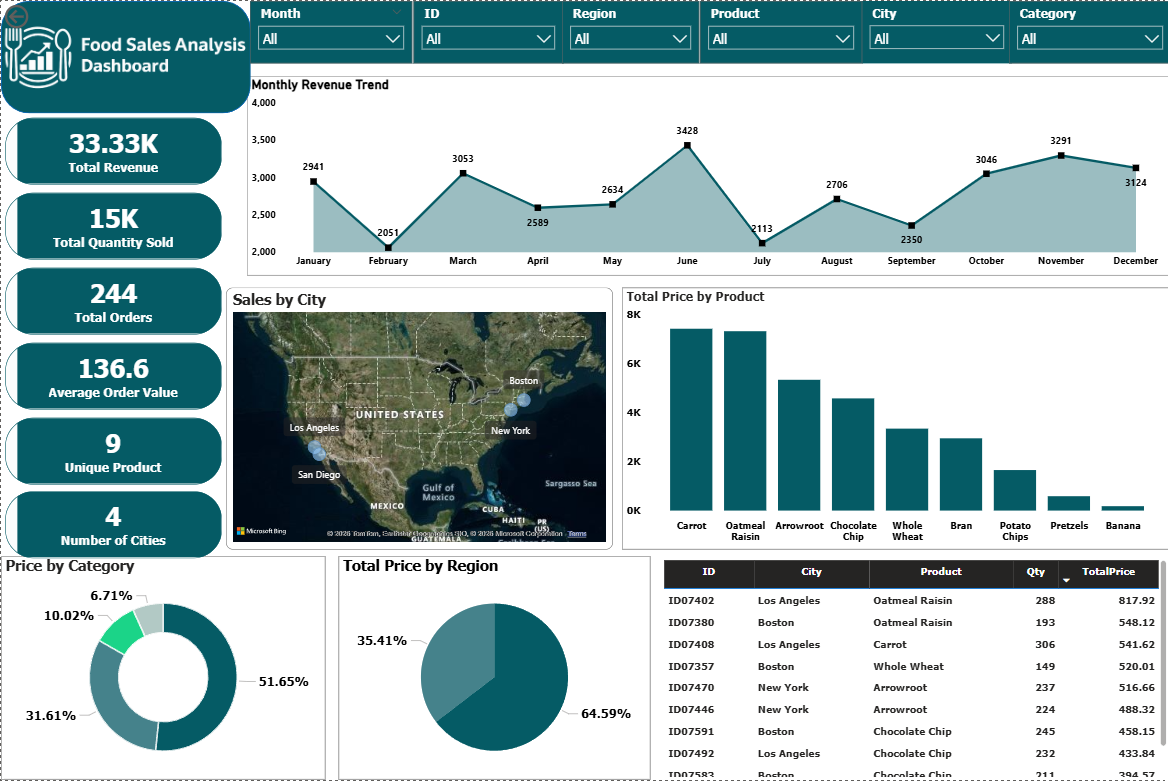

This screenshot's page, from the dashboard's own definition file:
{"tool":"powerbi","page":{"name":"Page 1","canvas":[1500,1000],"ordinal":0},"visuals":[{"type":"map","title":"Sales by City","fields":{"Category":["Sheet1.City"]},"box":[288,368,496,336],"z":0},{"type":"clusteredColumnChart","title":"Total Price by Product","fields":{"Category":["Sheet1.Product"],"Y":["Sheet1.TotalPrice"]},"box":[796,368,704,336],"z":1000},{"type":"pieChart","title":"Total Price by Region","fields":{"Category":["Sheet1.Region"],"Y":["Sheet1.TotalPrice"]},"box":[432,712,400,288],"z":2000},{"type":"donutChart","title":"Price by Category","fields":{"Category":["Sheet1.Category"],"Y":["Sheet1.TotalPrice"]},"box":[0,712,416,288],"z":3000},{"type":"areaChart","title":"Monthly Revenue Trend","fields":{"Category":["Sheet1.Date.Variation.Date Hierarchy.Month"],"Y":["Sheet1.TotalPrice"]},"box":[316,96,1184,256],"z":4000},{"type":"shape","box":[0,0,320,144],"z":5000},{"type":"image","box":[0,0,320,144],"z":6000},{"type":"cardVisual","fields":{"Data":["Sheet1.TotalPrice"]},"box":[0,144,288,96],"z":7000},{"type":"cardVisual","fields":{"Data":["Sheet1.Qty"]},"box":[0,240,288,96],"z":8000},{"type":"cardVisual","fields":{"Data":["Sheet1.ID"]},"box":[0,336,288,96],"z":9000},{"type":"cardVisual","fields":{"Data":["Sheet1.Average Order Value"]},"box":[0,432,288,96],"z":10000},{"type":"cardVisual","fields":{"Data":["Sheet1.Product"]},"box":[0,528,288,96],"z":11000},{"type":"cardVisual","fields":{"Data":["Sheet1.City"]},"box":[0,624,288,96],"z":12000},{"type":"slicer","fields":{"Values":["Sheet1.ID"]},"box":[528,0,192,80],"z":13000},{"type":"slicer","fields":{"Values":["Sheet1.City"]},"box":[1104,0,192,80],"z":14000},{"type":"actionButton","box":[0,0,100,40],"z":15000},{"type":"slicer","fields":{"Values":["Sheet1.Product"]},"box":[896,0,208,80],"z":16000},{"type":"slicer","fields":{"Values":["Sheet1.Category"]},"box":[1292,0,208,80],"z":17000},{"type":"slicer","fields":{"Values":["Sheet1.Region"]},"box":[720,0,176,80],"z":18000},{"type":"slicer","fields":{"Values":["Sheet1.Date.Variation.Date Hierarchy.Month"]},"box":[320,0,208,80],"z":19000},{"type":"tableEx","fields":{"Values":["Sheet1.ID","Sheet1.City","Sheet1.Product","Sheet1.Qty","Sheet1.TotalPrice"]},"box":[844,712,656,288],"z":20000}]}

Visuals, with their boxes in screenshot pixels (x1, y1, x2, y2), scaled from the page's 1500x1000 canvas onto the 1168x781 screenshot:
"Sales by City" map: (left=224, top=287, right=610, bottom=550)
"Total Price by Product" clusteredColumnChart: (left=620, top=287, right=1167, bottom=550)
"Total Price by Region" pieChart: (left=336, top=556, right=648, bottom=780)
"Price by Category" donutChart: (left=0, top=556, right=324, bottom=780)
"Monthly Revenue Trend" areaChart: (left=246, top=75, right=1167, bottom=275)
shape: (left=0, top=0, right=249, bottom=112)
image: (left=0, top=0, right=249, bottom=112)
cardVisual - Sheet1.TotalPrice: (left=0, top=112, right=224, bottom=187)
cardVisual - Sheet1.Qty: (left=0, top=187, right=224, bottom=262)
cardVisual - Sheet1.ID: (left=0, top=262, right=224, bottom=337)
cardVisual - Sheet1.Average Order Value: (left=0, top=337, right=224, bottom=412)
cardVisual - Sheet1.Product: (left=0, top=412, right=224, bottom=487)
cardVisual - Sheet1.City: (left=0, top=487, right=224, bottom=562)
slicer - Sheet1.ID: (left=411, top=0, right=561, bottom=62)
slicer - Sheet1.City: (left=860, top=0, right=1009, bottom=62)
actionButton: (left=0, top=0, right=78, bottom=31)
slicer - Sheet1.Product: (left=698, top=0, right=860, bottom=62)
slicer - Sheet1.Category: (left=1006, top=0, right=1167, bottom=62)
slicer - Sheet1.Region: (left=561, top=0, right=698, bottom=62)
slicer - Sheet1.Date.Variation.Date Hierarchy.Month: (left=249, top=0, right=411, bottom=62)
tableEx - Sheet1.ID x Sheet1.City: (left=657, top=556, right=1167, bottom=780)
